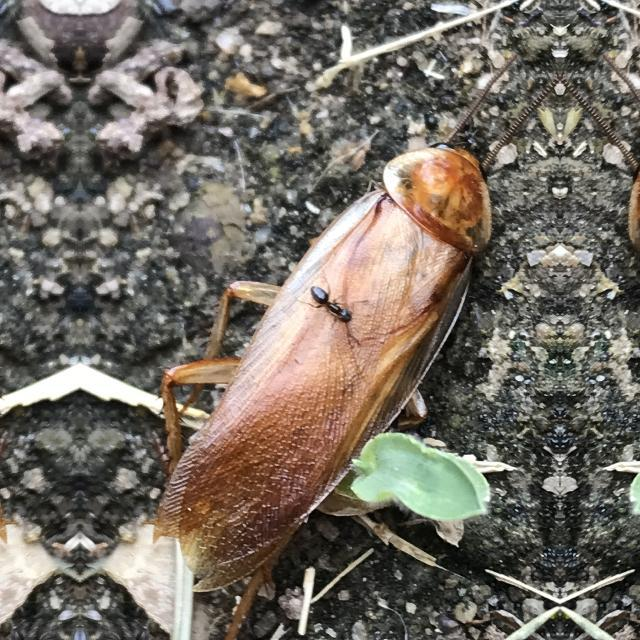Tapinoma: (306, 273, 360, 333)
